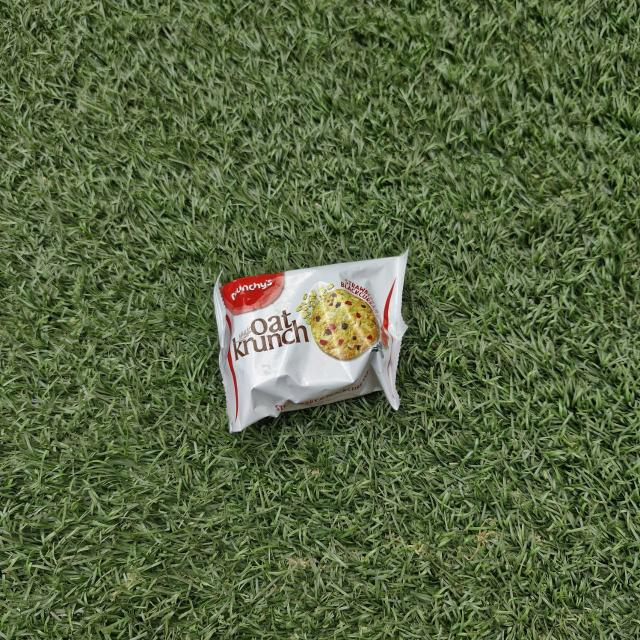plastic: (204, 254, 424, 426)
